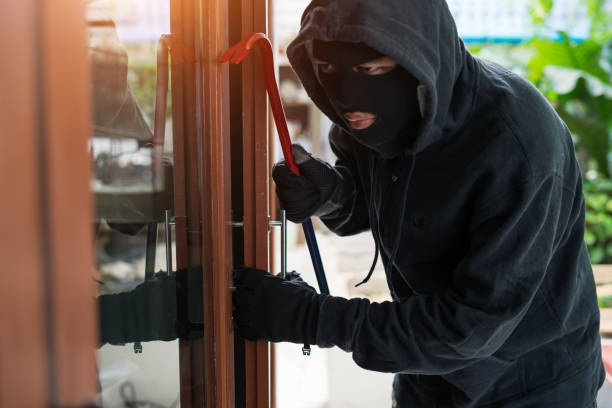person: (284, 1, 605, 405)
robbery mask: (298, 4, 434, 160)
